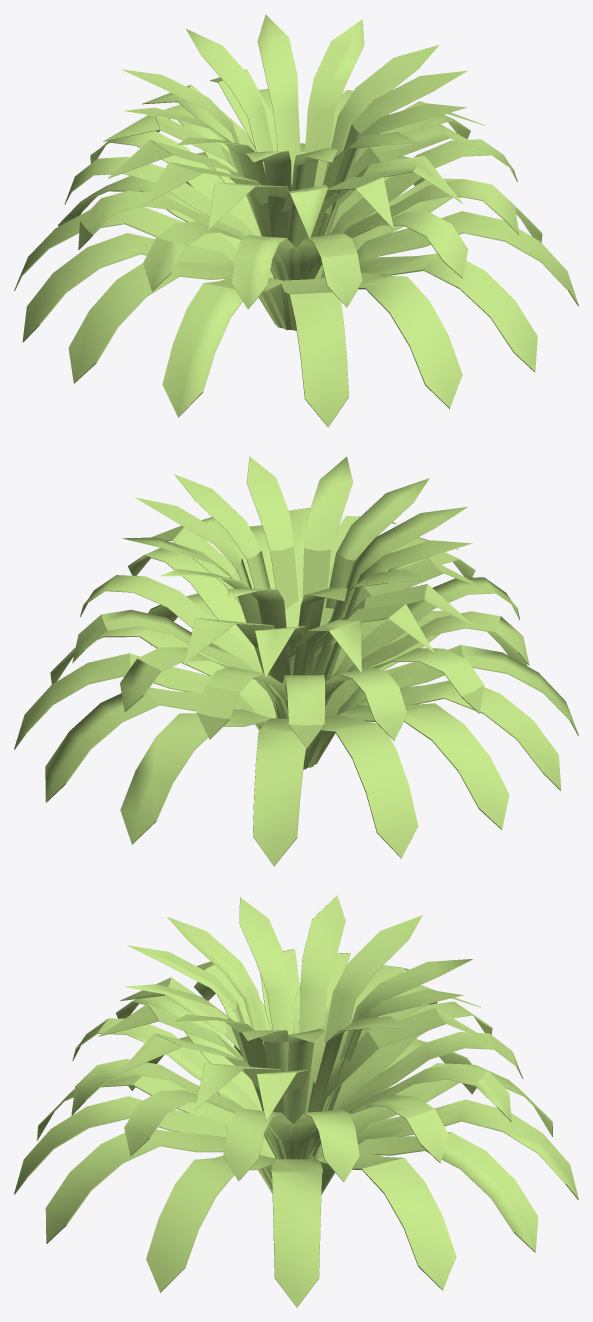
File: 9 purrgrass.fbx
3 renders of one model, top to bottom at view 1: azimuth 30°, elevation 25°; view 2: azimuth 150°, elevation 25°; view 3: azimuth 270°, elevation 25°, orthographic.
Visible parts, largest first — view 1: Plane.047; view 2: Plane.047; view 3: Plane.047.
Boxes of the visible parts, <box> form: Plane.047: <box>14,14,578,427</box>; Plane.047: <box>14,456,578,866</box>; Plane.047: <box>14,895,578,1307</box>.
Size of the model in its own units: 460 by 210 by 461.
